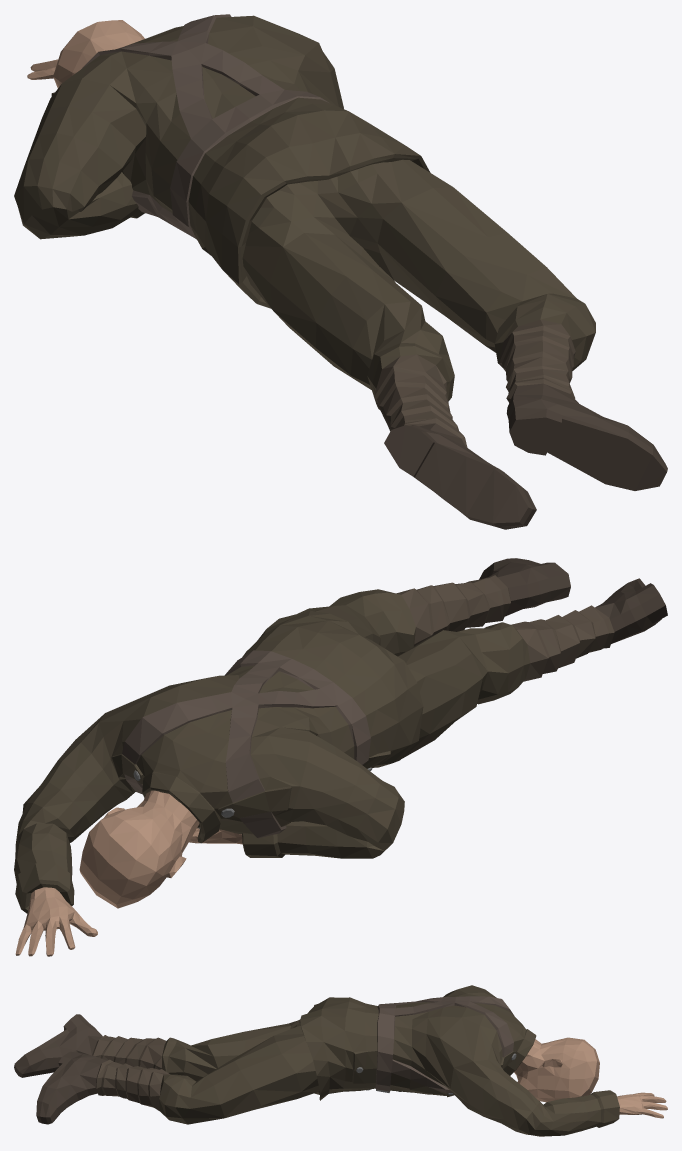
File: Cha_Soldier_Eng_Dead_05.fbx
3 renders of one model, top to bottom at view 1: azimuth 30°, elevation 25°; view 2: azimuth 150°, elevation 25°; view 3: azimuth 270°, elevation 25°, orthographic. The views are drawn at different scales.
Visible parts, largest first — view 1: Cha_Soldier_Eng_Dead_05_LOD0; view 2: Cha_Soldier_Eng_Dead_05_LOD0; view 3: Cha_Soldier_Eng_Dead_05_LOD0.
Part boxes in pixels (x1,y1,x2,y2): Cha_Soldier_Eng_Dead_05_LOD0: (14,14,667,529); Cha_Soldier_Eng_Dead_05_LOD0: (14,558,667,956); Cha_Soldier_Eng_Dead_05_LOD0: (14,985,667,1136).
Size of what is drawn, in the model's own units: 71.57 by 35.05 by 204.
